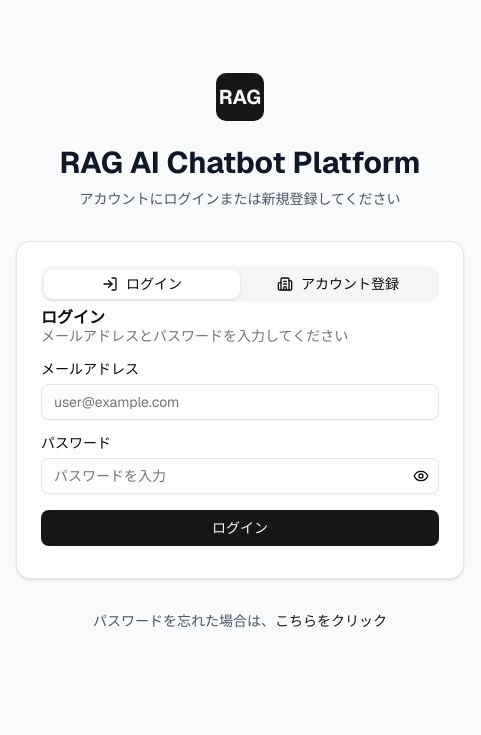
Test case: LoginForm › タブ切り替え
// アカウント登録タブをクリック
What coordinates should you click on to do the following:
click the tab "アカウント登録"
I would click on:
 (338, 284)
Its box is x1=240 y1=270 x2=436 y2=298.
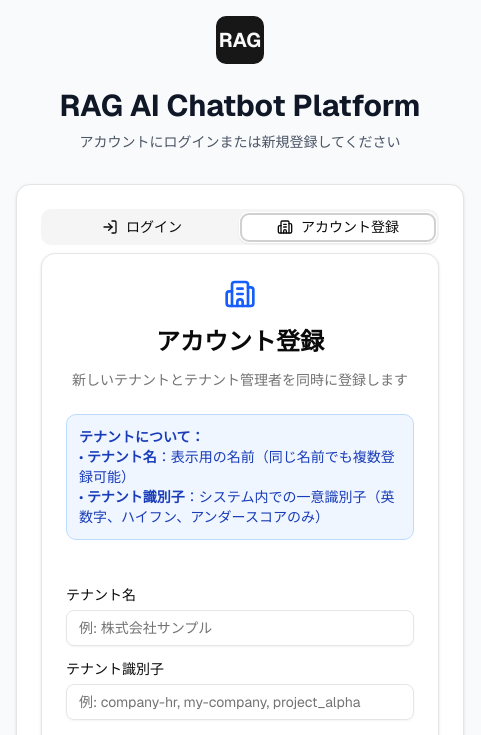
Expected: the field labelled "テナント名" is shown, x1=66 y1=610 x2=414 y2=646
